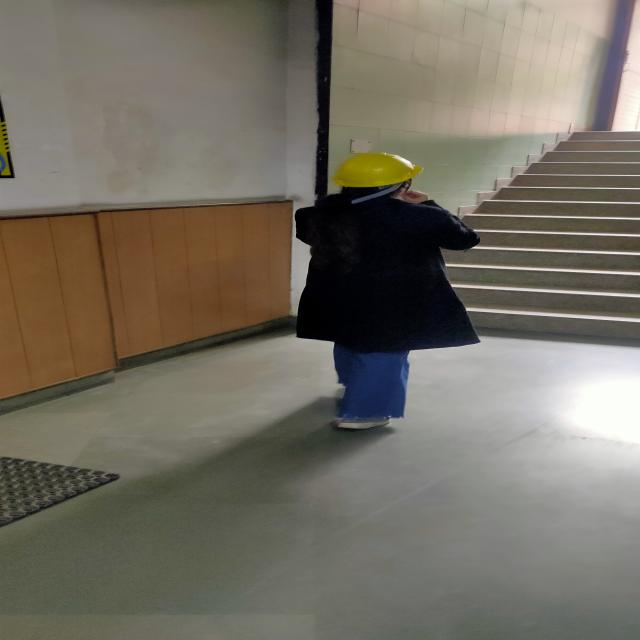no jacket: (288, 152, 480, 429)
